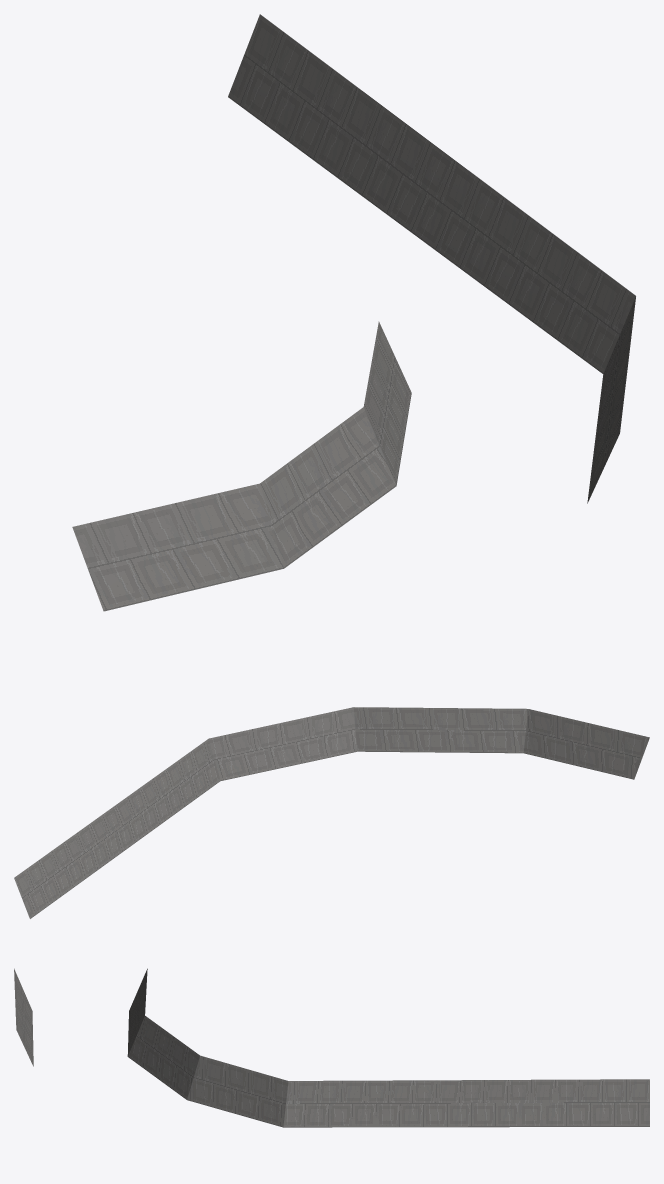
The model's file is kd_stage_13612f_5_6_bounded.glb.
The picture shows the model from 3 angles, top to bottom: view 1: azimuth 30°, elevation 25°; view 2: azimuth 150°, elevation 25°; view 3: azimuth 270°, elevation 25°; orthographic projection. The views are drawn at different scales.
Parts seen in each view (by area): view 1: kd_stage_13612f_5_6_bounded; view 2: kd_stage_13612f_5_6_bounded; view 3: kd_stage_13612f_5_6_bounded.
Boxes of the visible parts, x1,y1,x2,y2 form: kd_stage_13612f_5_6_bounded: [72, 14, 635, 611]; kd_stage_13612f_5_6_bounded: [14, 707, 649, 918]; kd_stage_13612f_5_6_bounded: [14, 968, 649, 1127].
Bounding box in the file's own units: 13.88 × 1.49 × 21.85.
1 material, 1 textured.
